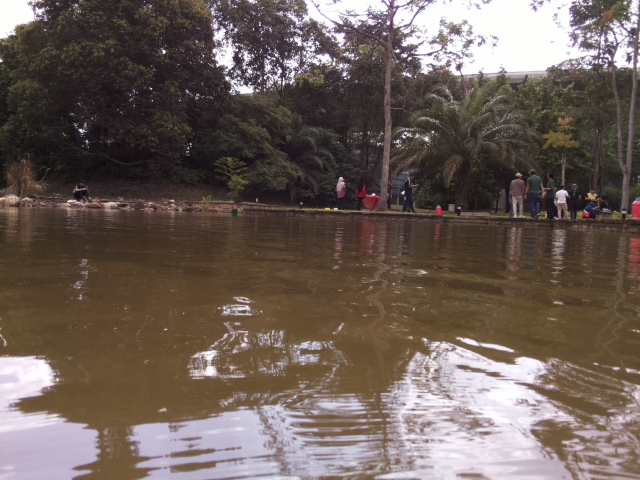obstacle: (230, 208, 240, 216)
